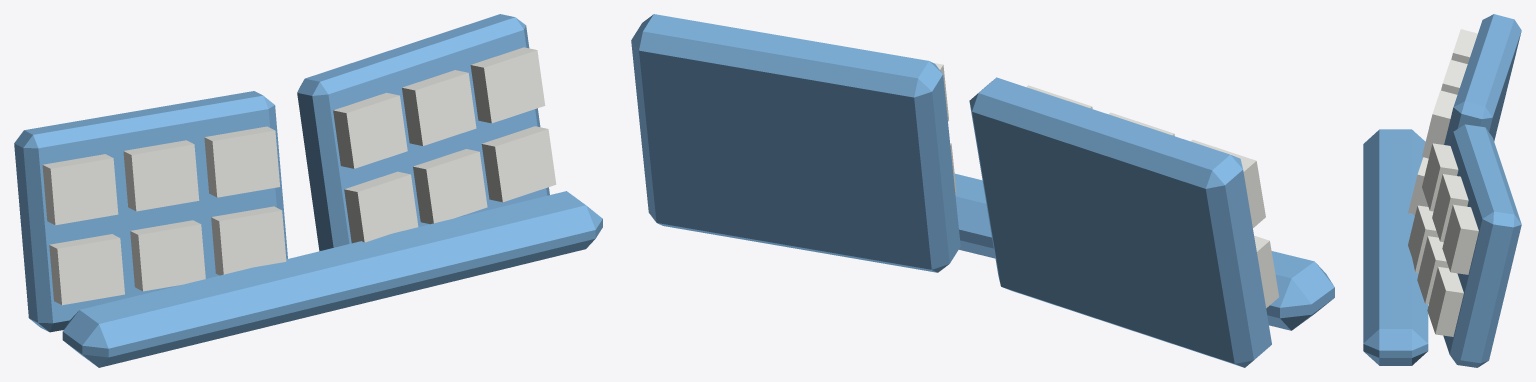
File: keyboardsmash_m1_2.glb
3 views of the same model, side by side, from view 1: azimuth 30°, elevation 25°; view 2: azimuth 150°, elevation 25°; view 3: azimuth 270°, elevation 25° (orthographic). The views are drawn at different scales.
Parts seen in each view (by area): view 1: keyboardsmash_m1_2_mesh; view 2: keyboardsmash_m1_2_mesh; view 3: keyboardsmash_m1_2_mesh.
Part boxes in pixels (left/top/right/bottom): keyboardsmash_m1_2_mesh: left=14, top=14, right=602, bottom=367; keyboardsmash_m1_2_mesh: left=631, top=14, right=1334, bottom=367; keyboardsmash_m1_2_mesh: left=1363, top=14, right=1521, bottom=367.
Size of the model in its own units: 0.62 by 0.2106 by 0.1948.
